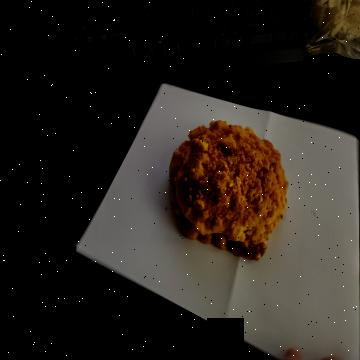soboru_bread: (169, 119, 288, 260)
